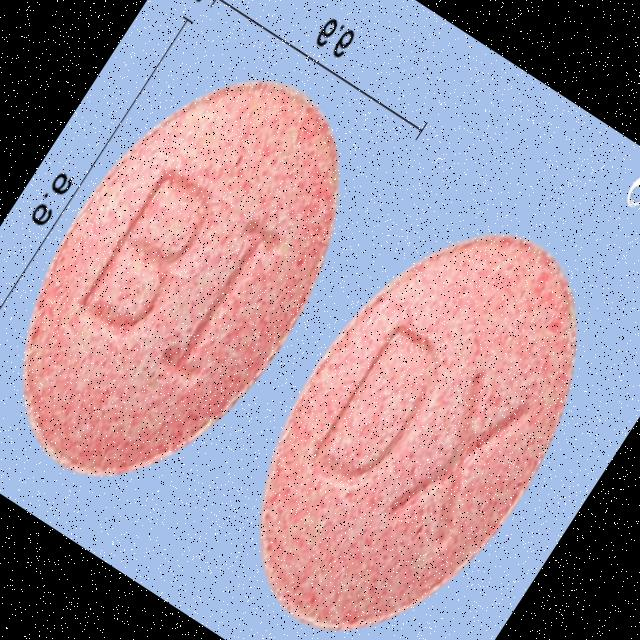Doxic: (195, 178, 640, 640), (0, 26, 403, 529)
